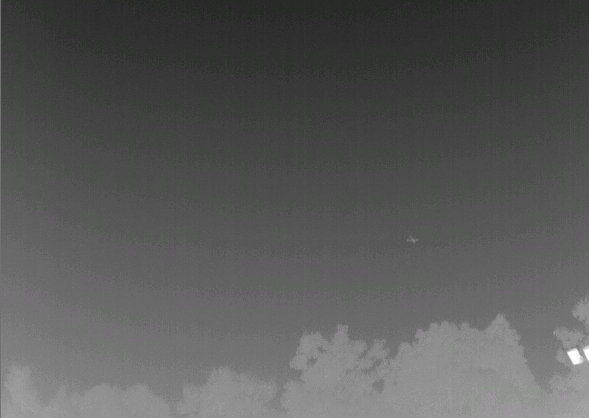dim target: (406, 235, 420, 244)
